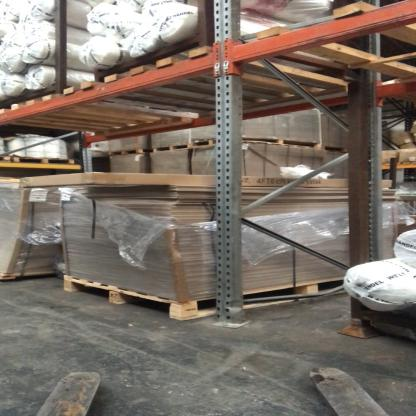vertical_damage: (207, 284, 259, 330)
